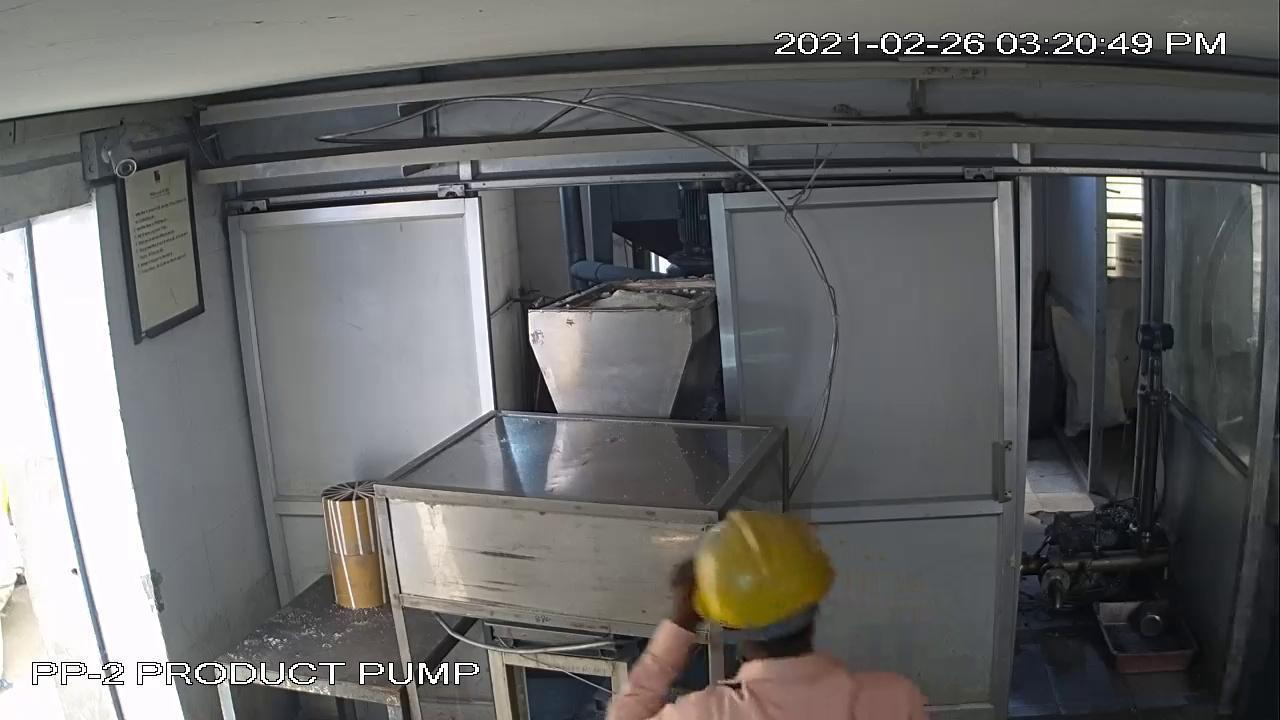helmet: (662, 503, 853, 642)
